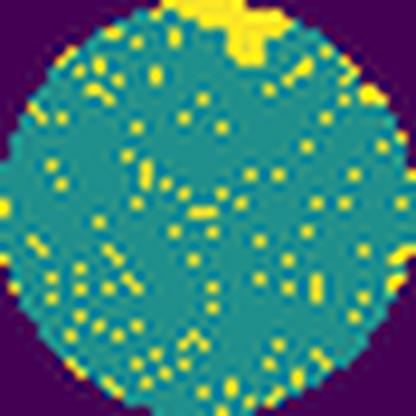Edge-Loc: (152, 0, 296, 67)
